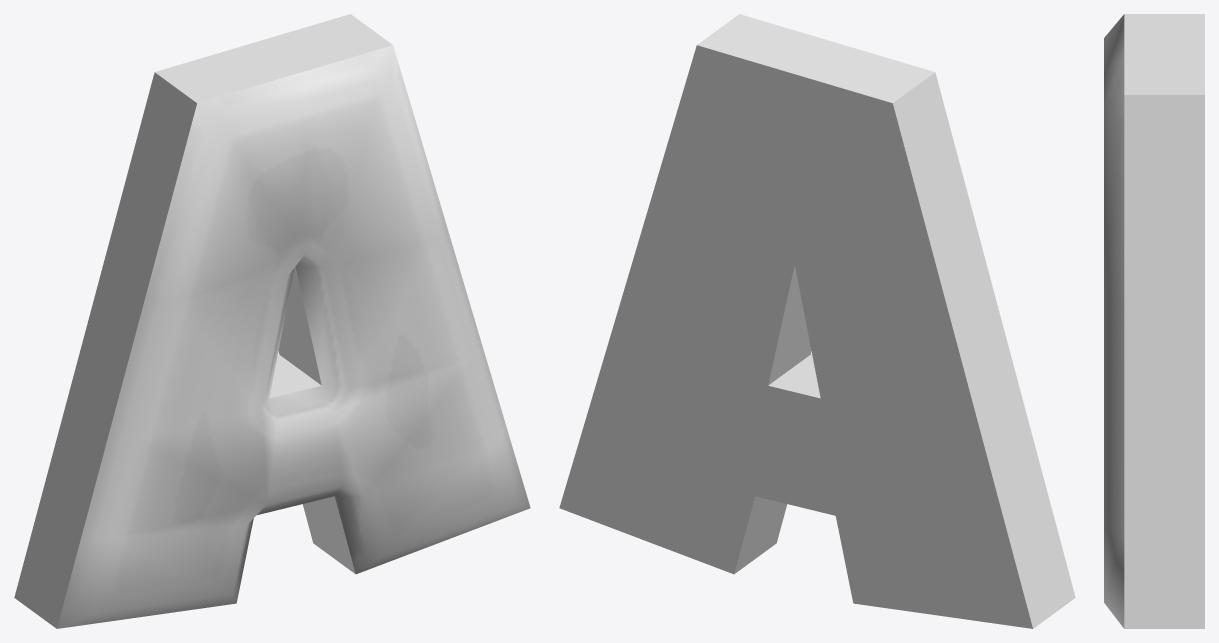
The model's file is LettersStylized01_A.FBX.
The picture shows the model from 3 angles, left to right: view 1: azimuth 30°, elevation 25°; view 2: azimuth 150°, elevation 25°; view 3: azimuth 270°, elevation 25°; orthographic projection. The views are drawn at different scales.
Parts seen in each view (by area): view 1: LettersStylized01_A; view 2: LettersStylized01_A; view 3: LettersStylized01_A.
Boxes of the visible parts, x1=… form: LettersStylized01_A: x1=14, y1=14, x2=530, y2=628; LettersStylized01_A: x1=559, y1=14, x2=1075, y2=628; LettersStylized01_A: x1=1104, y1=14, x2=1204, y2=628.
Size of what is drawn, in the model's own units: 0.437 by 0.4584 by 0.085.
